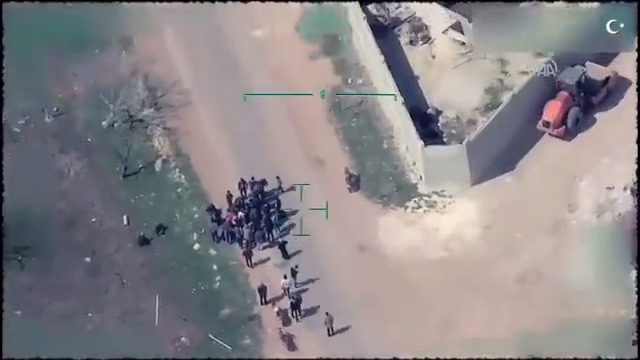arac: (531, 51, 628, 144)
insan: (289, 293, 306, 322), (318, 311, 337, 336), (276, 233, 290, 260), (239, 244, 255, 267), (254, 281, 267, 309), (288, 261, 304, 283), (271, 172, 287, 194), (281, 272, 293, 291), (225, 185, 234, 208)
